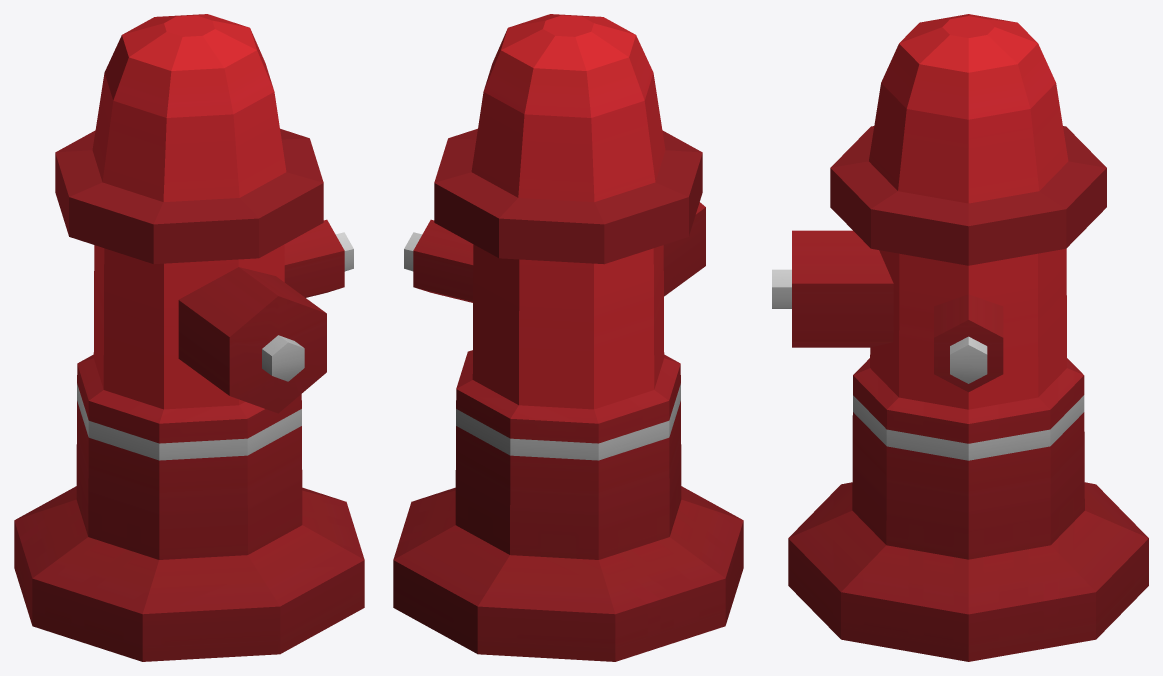
Rendered from hydrant.fbx.
3 renders of one model, left to right at view 1: azimuth 30°, elevation 25°; view 2: azimuth 150°, elevation 25°; view 3: azimuth 270°, elevation 25°, orthographic.
Visible parts, largest first — view 1: hydrant; view 2: hydrant; view 3: hydrant.
Boxes of the visible parts, x1,y1,x2,y2 form: hydrant: (14,14,364,661); hydrant: (393,14,743,661); hydrant: (772,14,1148,661).
Size of the model in its own units: 50.06 by 85.55 by 52.32.
